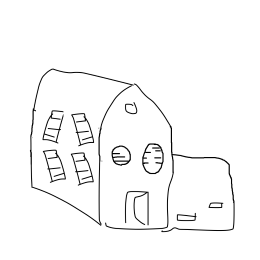closed_window: (37, 103, 68, 146), (139, 137, 167, 176), (40, 146, 68, 184), (69, 111, 97, 148), (70, 148, 95, 187), (107, 139, 133, 170)
door: (118, 185, 155, 233)
open_window: (172, 210, 201, 221), (203, 198, 222, 211)
single_line_roof: (21, 64, 173, 118), (166, 150, 237, 176)
wall: (95, 125, 176, 232), (165, 151, 238, 230)
